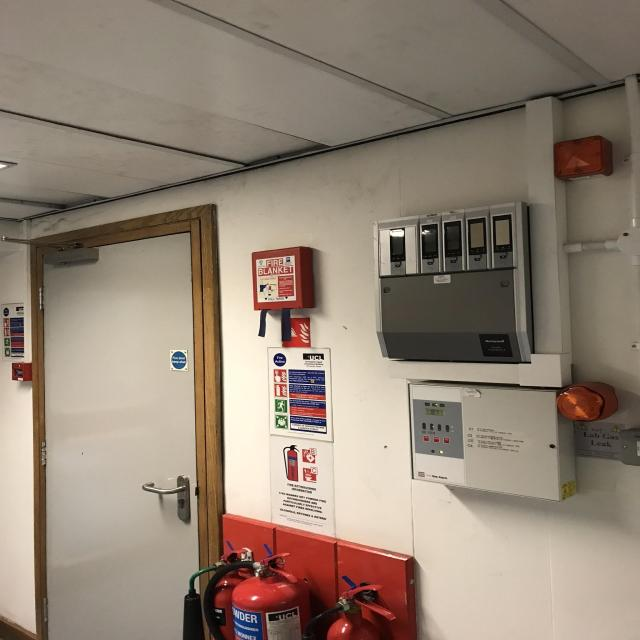fire_extinguisher: (199, 548, 310, 640), (177, 550, 263, 640), (292, 578, 402, 640)
